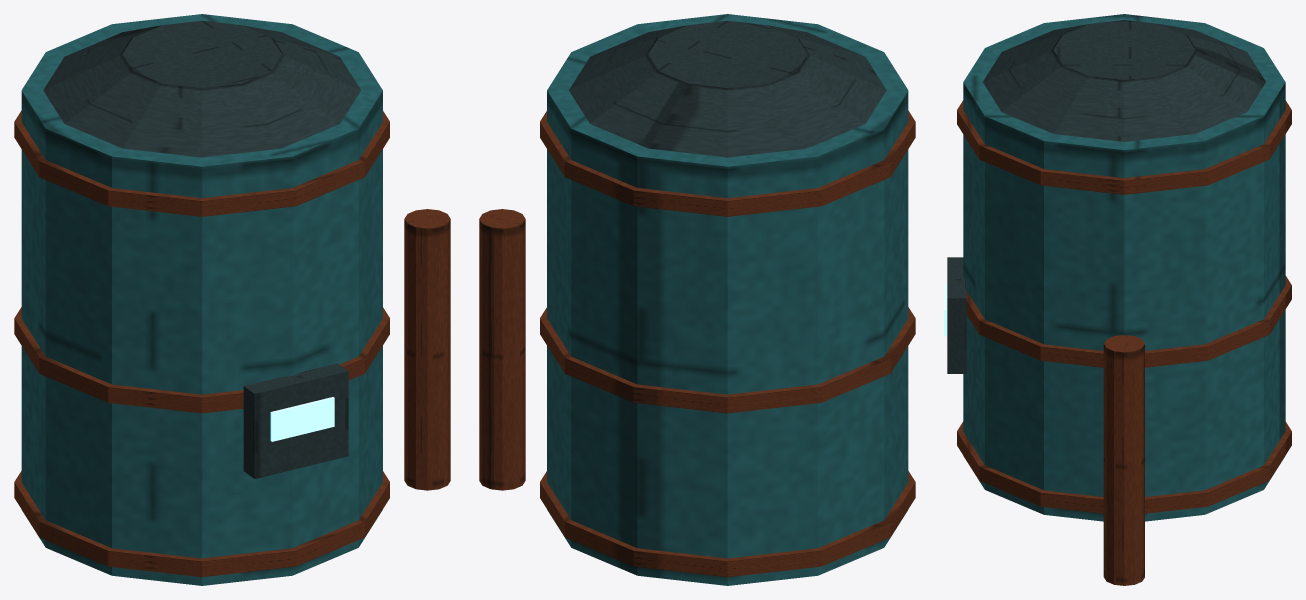
Rendered from tank.glb.
The picture shows the model from 3 angles, left to right: view 1: azimuth 30°, elevation 25°; view 2: azimuth 150°, elevation 25°; view 3: azimuth 270°, elevation 25°; orthographic projection. The views are drawn at different scales.
Visible parts, largest first — view 1: tank_paint.005, tank_metal.005, tank_rust.005, tank_blue.005; view 2: tank_paint.005, tank_rust.005, tank_metal.005; view 3: tank_paint.005, tank_metal.005, tank_rust.005.
Boxes of the visible parts, left/top/right/bottom form: tank_paint.005: left=21, top=14, right=382, bottom=585; tank_metal.005: left=43, top=20, right=360, bottom=478; tank_rust.005: left=14, top=110, right=450, bottom=577; tank_blue.005: left=270, top=397, right=334, bottom=441; tank_paint.005: left=547, top=14, right=908, bottom=585; tank_rust.005: left=479, top=110, right=915, bottom=577; tank_metal.005: left=569, top=20, right=886, bottom=157; tank_paint.005: left=963, top=14, right=1285, bottom=521; tank_metal.005: left=947, top=20, right=1265, bottom=373; tank_rust.005: left=957, top=100, right=1291, bottom=585.
Bounding box in the file's own units: 3.26 × 3.68 × 2.7.
Materials: 4 (3 with a texture image).
